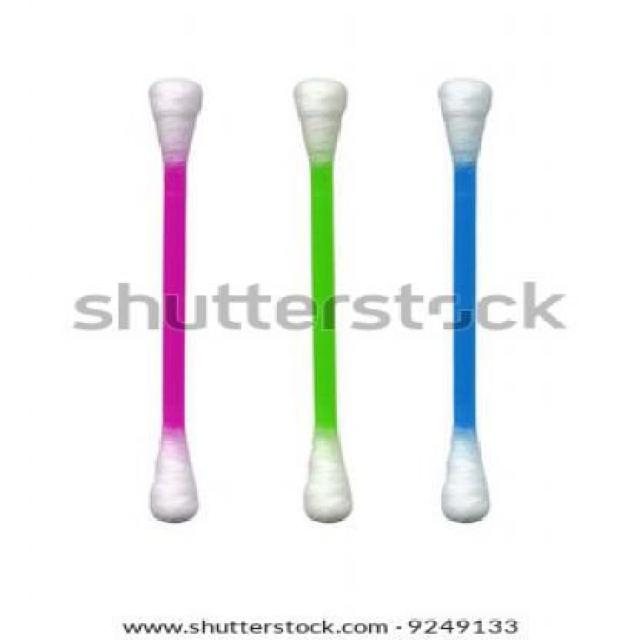B3: (281, 71, 365, 523), (135, 69, 213, 525), (436, 73, 496, 525)
